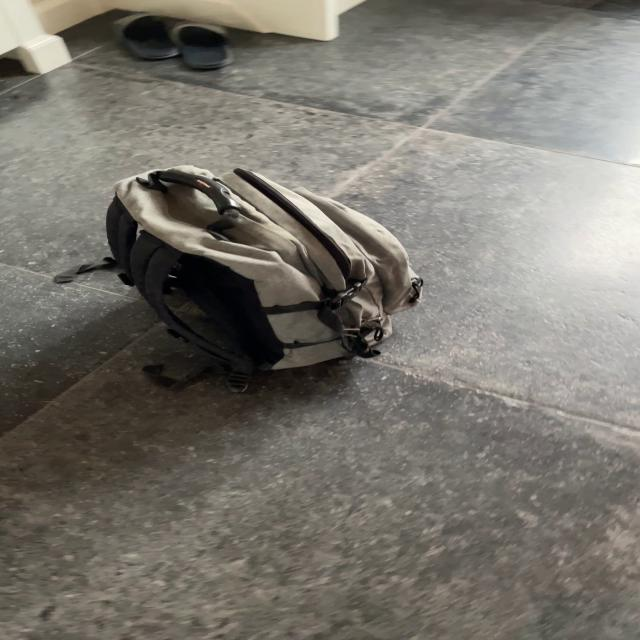backpack: (87, 159, 437, 388)
